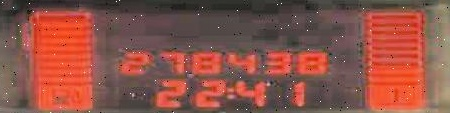1: (291, 80, 305, 106)
2: (153, 80, 185, 107), (193, 80, 225, 107), (118, 51, 147, 74)
3: (261, 51, 290, 74)
4: (233, 79, 265, 106), (227, 53, 253, 74)
7: (158, 51, 185, 74)
8: (188, 51, 220, 73), (295, 51, 325, 73)
X: (223, 87, 233, 100)
